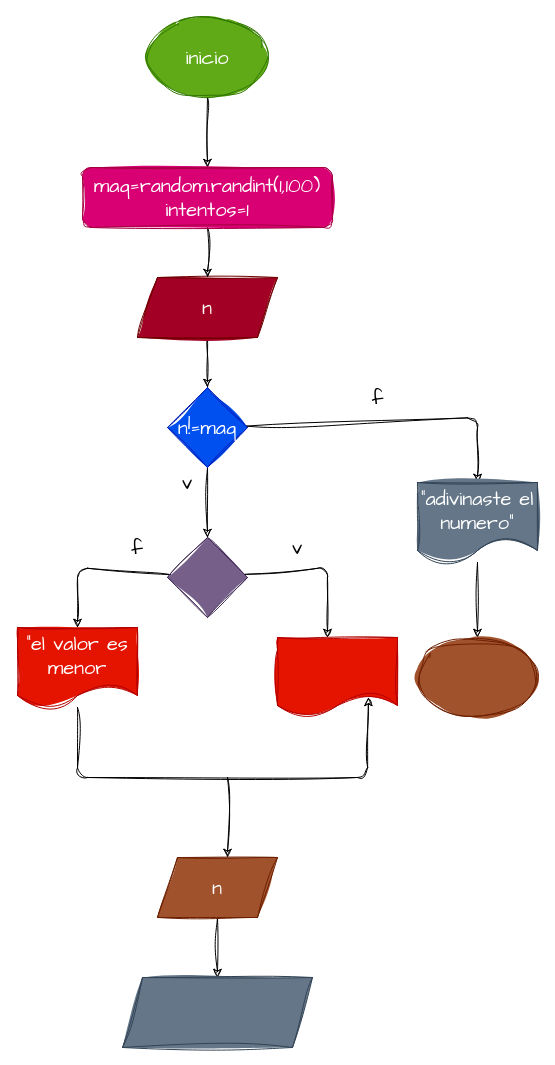
Some shapes in this 555 by 1065 pixel diagram are drawn without their labels. Each missing label, with the box of its shape:
"el valor es mayor": (276, 636, 398, 718)
fin: (416, 636, 538, 718)
intentos=intentos + 1: (122, 976, 312, 1048)
n<maq: (166, 536, 248, 618)
